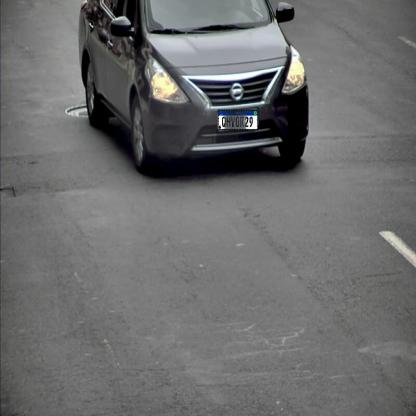PlacaM: (218, 109, 258, 130)
